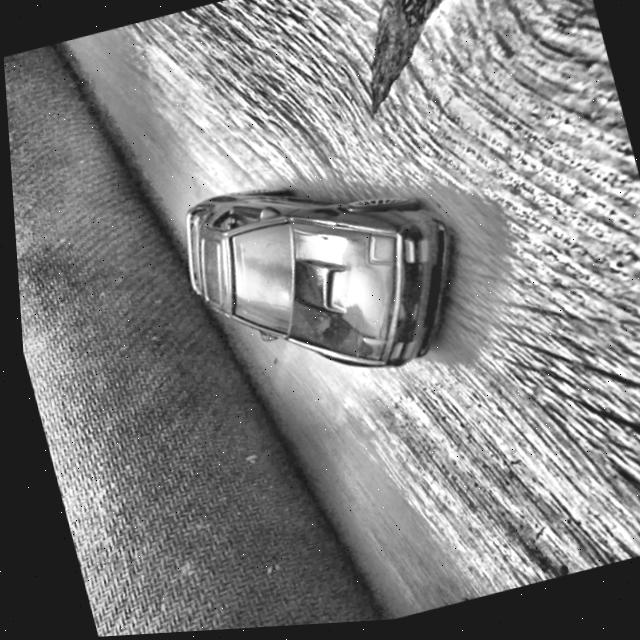car: (165, 144, 478, 415)
